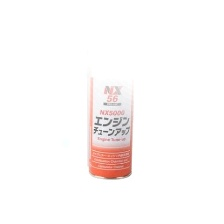aerosol_cans: (80, 35, 138, 183)
